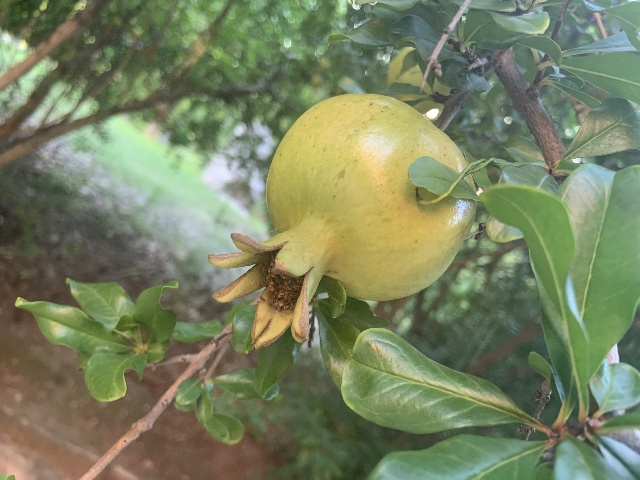mid-growth: (206, 92, 476, 349)
